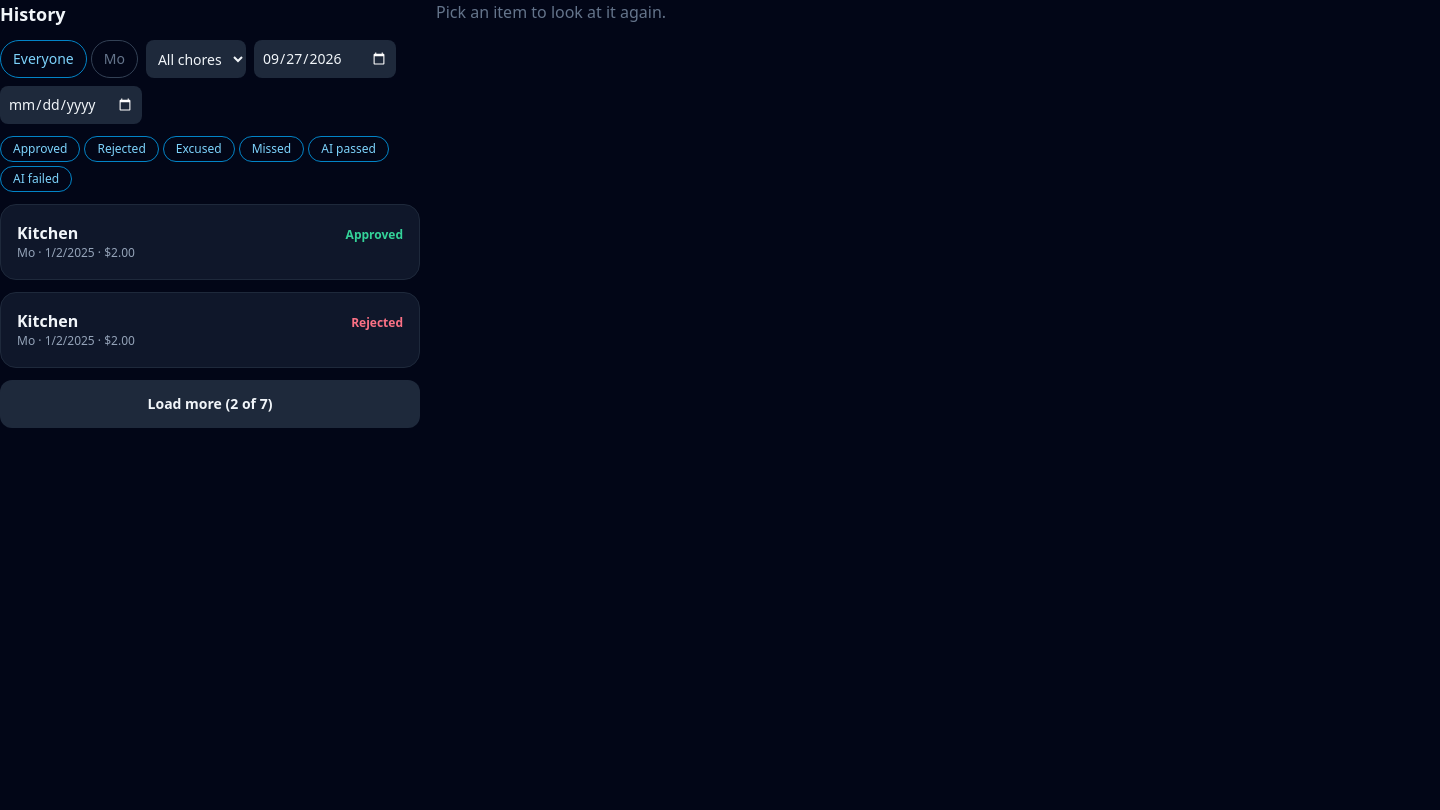
Scenario: admin History › opens the item over the list on a phone, where the pane is below the fold
Expected: the text "Kitchen" is shown 2 times, [17,221,78,245]; [17,309,78,333]
Click the button "Kitchen Approved Mo · 1/2/2025 · $2.00": point(48, 233) [17,221,403,261]
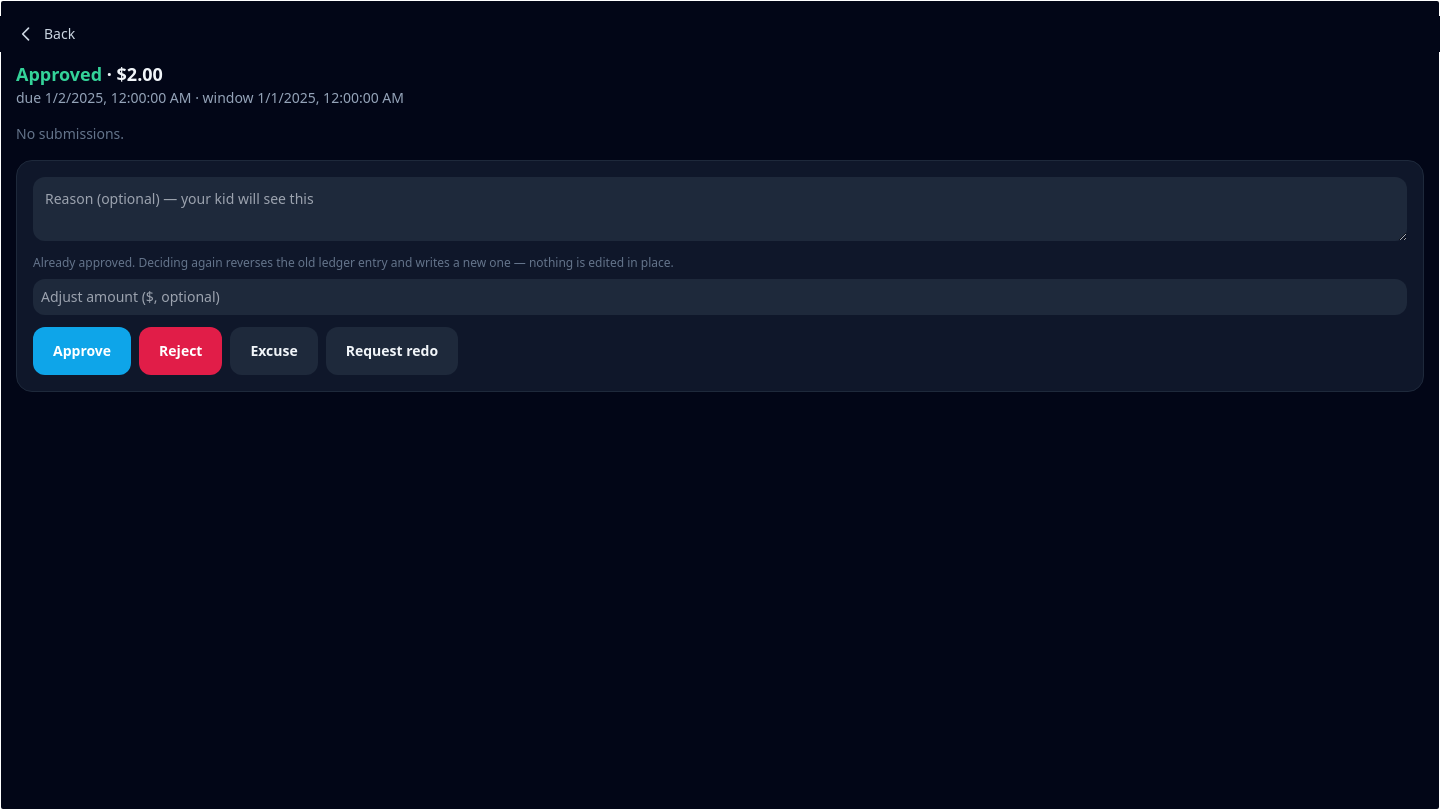
Click the button "Back": point(60, 34) [0,16,1439,52]
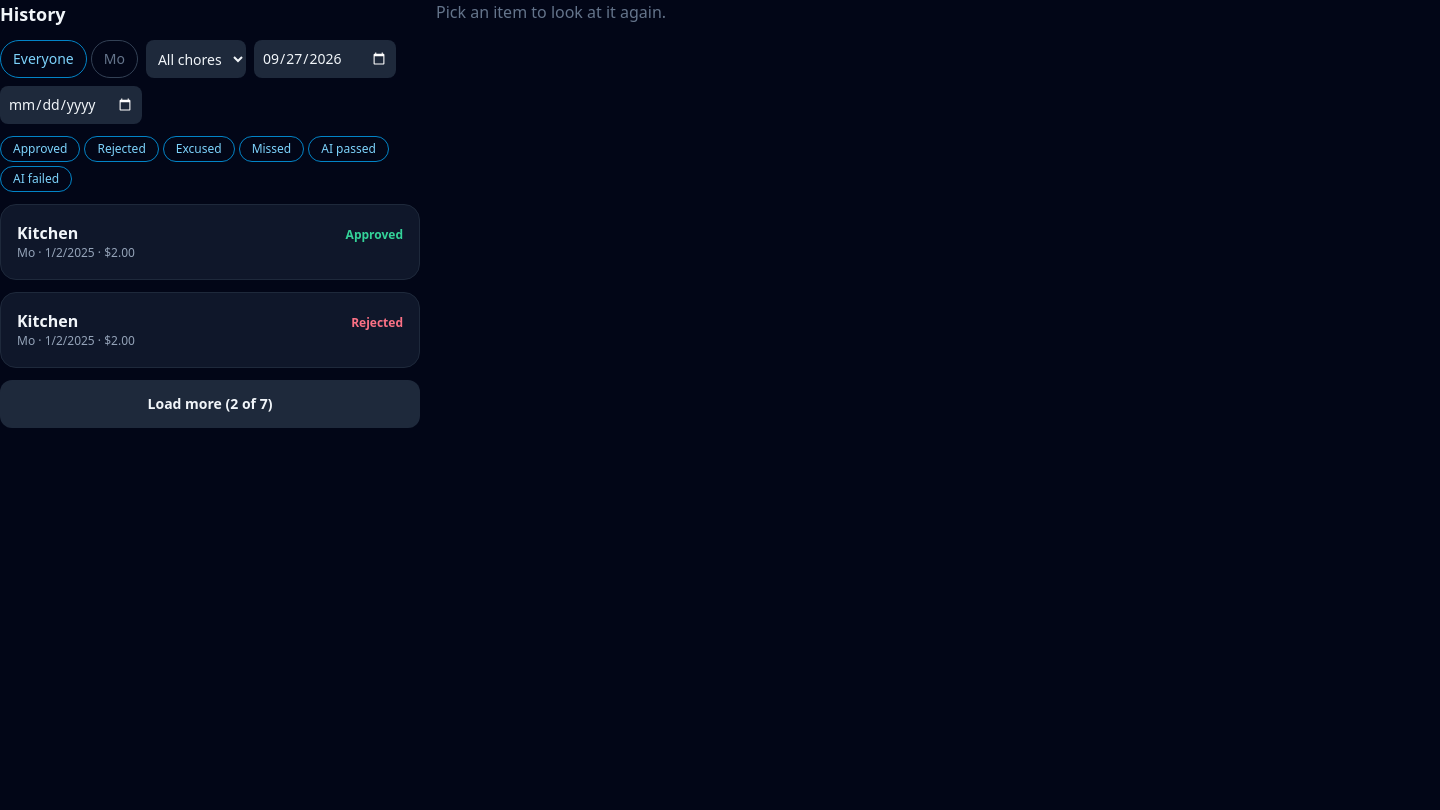
Expected: the dialog is gone
